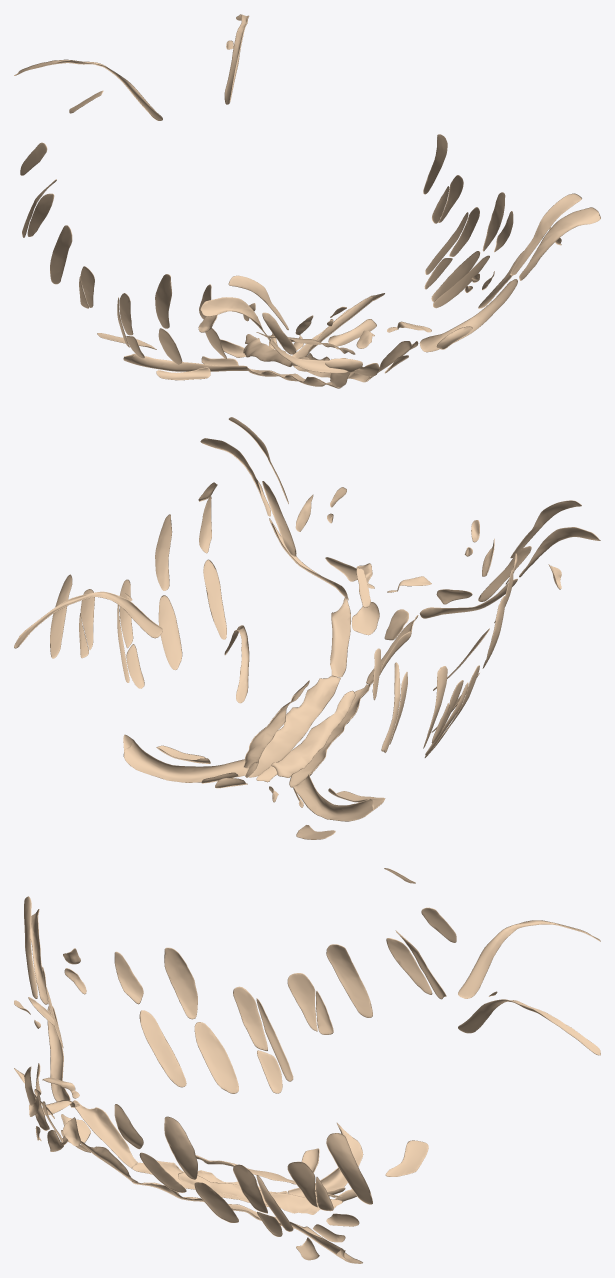
File: thorax__insertions.5ee5f9d7bc.glb
3 views of the same model, one above another, from view 1: azimuth 30°, elevation 25°; view 2: azimuth 150°, elevation 25°; view 3: azimuth 270°, elevation 25° (orthographic). The views are drawn at different scales.
Visible parts, largest first — view 1: Clavicular part of deltoid muscle.ol, Pectoralis major muscle.ol, Rectus abdominis muscle.or, Ascending part of trapezius muscle.ol, Sternocostal head of pectoralis major muscle.er, Clavicular part of deltoid muscle.or, Sternocostal head of pectoralis major muscle.el, Diaphragm.o4r, Serratus anterior muscle.e6r, Diaphragm.o4l, Serratus anterior muscle.e3r, Transversus thoracis muscle.or (+11 smaller); view 2: Sternocostal head of pectoralis major muscle.e1l, Sternocostal head of pectoralis major muscle.el, Transversus thoracis muscle.or, Sternocostal head of pectoralis major muscle.er, Diaphragm.o4l, Sternocostal head of pectoralis major muscle.e2l, Pectoralis minor muscle.e1l, Sternocostal head of pectoralis major muscle.e1r, Transversus thoracis muscle.ol, Pectoralis minor muscle.el, Serratus anterior muscle.e3l, Serratus anterior muscle.e6l (+11 smaller); view 3: Pectoralis minor muscle.e1r, Serratus anterior muscle.e6r, Diaphragm.o4r, Serratus anterior muscle.e3r, Pectoralis minor muscle.er, Serratus anterior muscle.e6l, Sternocostal head of pectoralis major muscle.e2r, Transversus thoracis muscle.ol, Diaphragm.o4l, Serratus anterior muscle.e3l, Serratus anterior muscle.e4r, Serratus anterior muscle.e5r (+21 smaller).
Part boxes in pixels (left/top/right/bottom): Clavicular part of deltoid muscle.ol: left=519, top=207, right=600, bottom=280; Pectoralis major muscle.ol: left=419, top=279, right=517, bottom=352; Rectus abdominis muscle.or: left=156, top=339, right=245, bottom=380; Ascending part of trapezius muscle.ol: left=510, top=193, right=581, bottom=275; Sternocostal head of pectoralis major muscle.er: left=123, top=353, right=248, bottom=371; Clavicular part of deltoid muscle.or: left=200, top=297, right=270, bottom=341; Sternocostal head of pectoralis major muscle.el: left=292, top=293, right=384, bottom=357; Diaphragm.o4r: left=14, top=59, right=162, bottom=120; Serratus anterior muscle.e6r: left=50, top=225, right=72, bottom=284; Diaphragm.o4l: left=224, top=14, right=249, bottom=104; Serratus anterior muscle.e3r: left=155, top=274, right=171, bottom=328; Transversus thoracis muscle.or: left=243, top=338, right=309, bottom=366; Sternocostal head of pectoralis major muscle.e1l: left=249, top=675, right=340, bottom=777; Sternocostal head of pectoralis major muscle.el: left=123, top=734, right=248, bottom=782; Transversus thoracis muscle.or: left=271, top=690, right=355, bottom=777; Sternocostal head of pectoralis major muscle.er: left=292, top=774, right=385, bottom=821; Diaphragm.o4l: left=14, top=591, right=162, bottom=648; Sternocostal head of pectoralis major muscle.e2l: left=330, top=597, right=350, bottom=677; Pectoralis minor muscle.e1l: left=158, top=595, right=182, bottom=669; Sternocostal head of pectoralis major muscle.e1r: left=289, top=684, right=370, bottom=787; Transversus thoracis muscle.ol: left=243, top=680, right=309, bottom=768; Pectoralis minor muscle.el: left=203, top=559, right=226, bottom=639; Serratus anterior muscle.e3l: left=155, top=514, right=172, bottom=590; Serratus anterior muscle.e6l: left=50, top=574, right=72, bottom=658; Pectoralis minor muscle.e1r: left=194, top=1022, right=238, bottom=1093; Serratus anterior muscle.e6r: left=326, top=944, right=372, bottom=1017; Diaphragm.o4r: left=458, top=920, right=600, bottom=998; Serratus anterior muscle.e3r: left=164, top=947, right=197, bottom=1019; Pectoralis minor muscle.er: left=139, top=1010, right=186, bottom=1087; Serratus anterior muscle.e6l: left=326, top=1133, right=372, bottom=1204; Sternocostal head of pectoralis major muscle.e2r: left=73, top=1100, right=137, bottom=1168; Transversus thoracis muscle.ol: left=178, top=1172, right=319, bottom=1214; Diaphragm.o4l: left=458, top=999, right=600, bottom=1055; Serratus anterior muscle.e3l: left=164, top=1116, right=197, bottom=1179; Serratus anterior muscle.e4r: left=233, top=986, right=267, bottom=1050; Serratus anterior muscle.e5r: left=287, top=973, right=317, bottom=1031.
Bounding box in the file's own units: 286 × 190 × 353.
